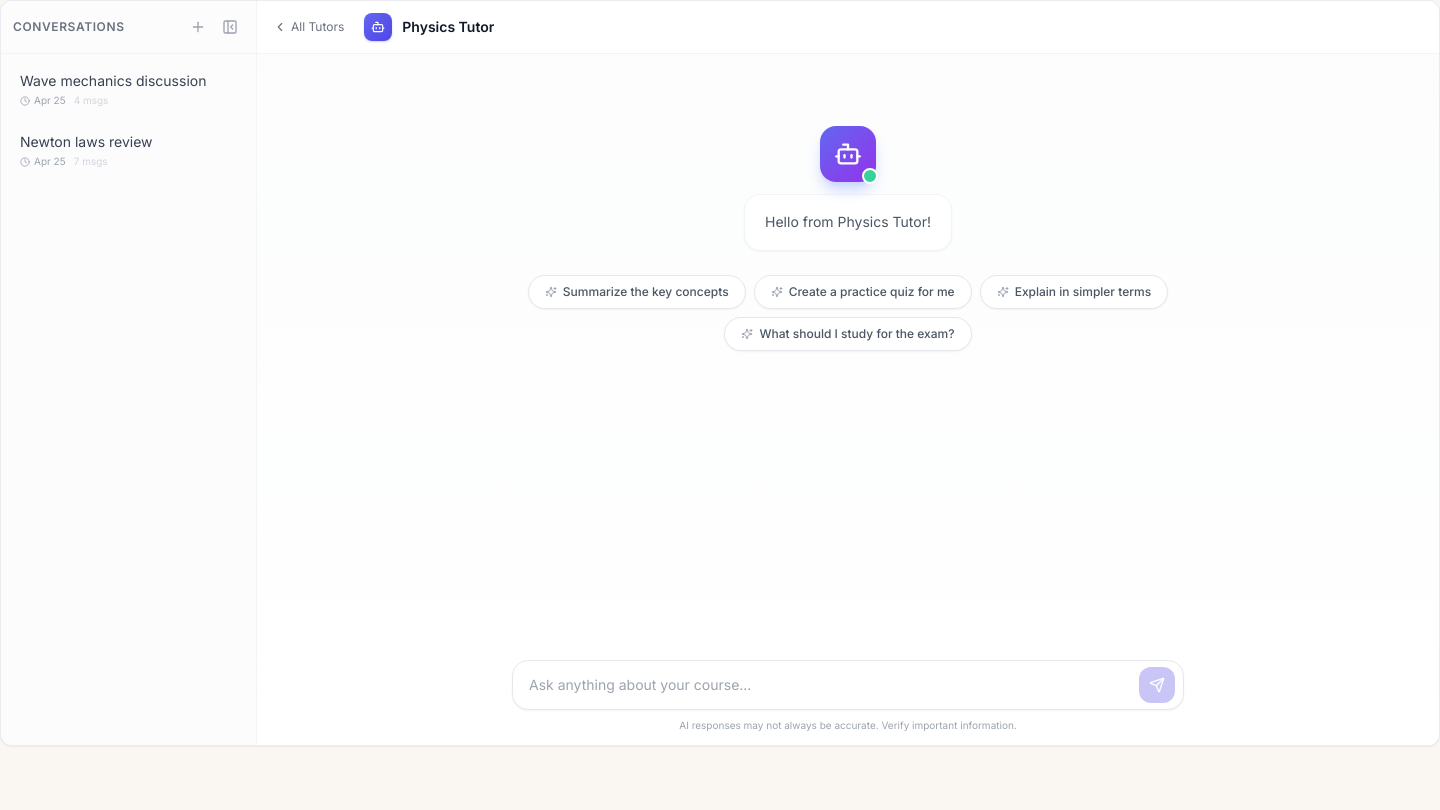
Test: StudentChatPage › hides the sidebar when the close-sidebar button is clicked
Expected: the heading "Conversations" is shown, [13, 19, 124, 35]
Click the button titled "Close sidebar".
click(230, 27)  # box [216, 13, 244, 41]
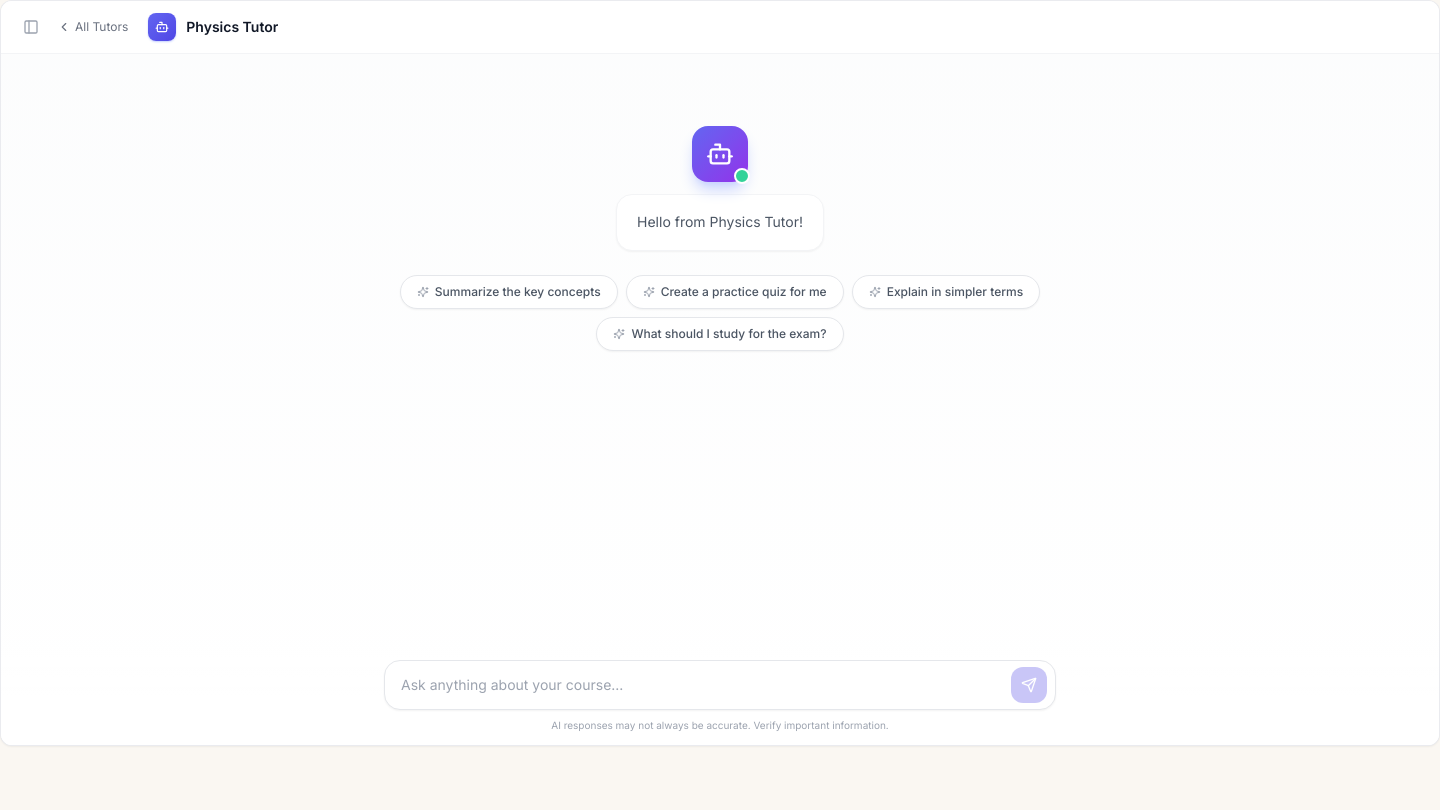
Expected: the heading "Conversations" is gone
